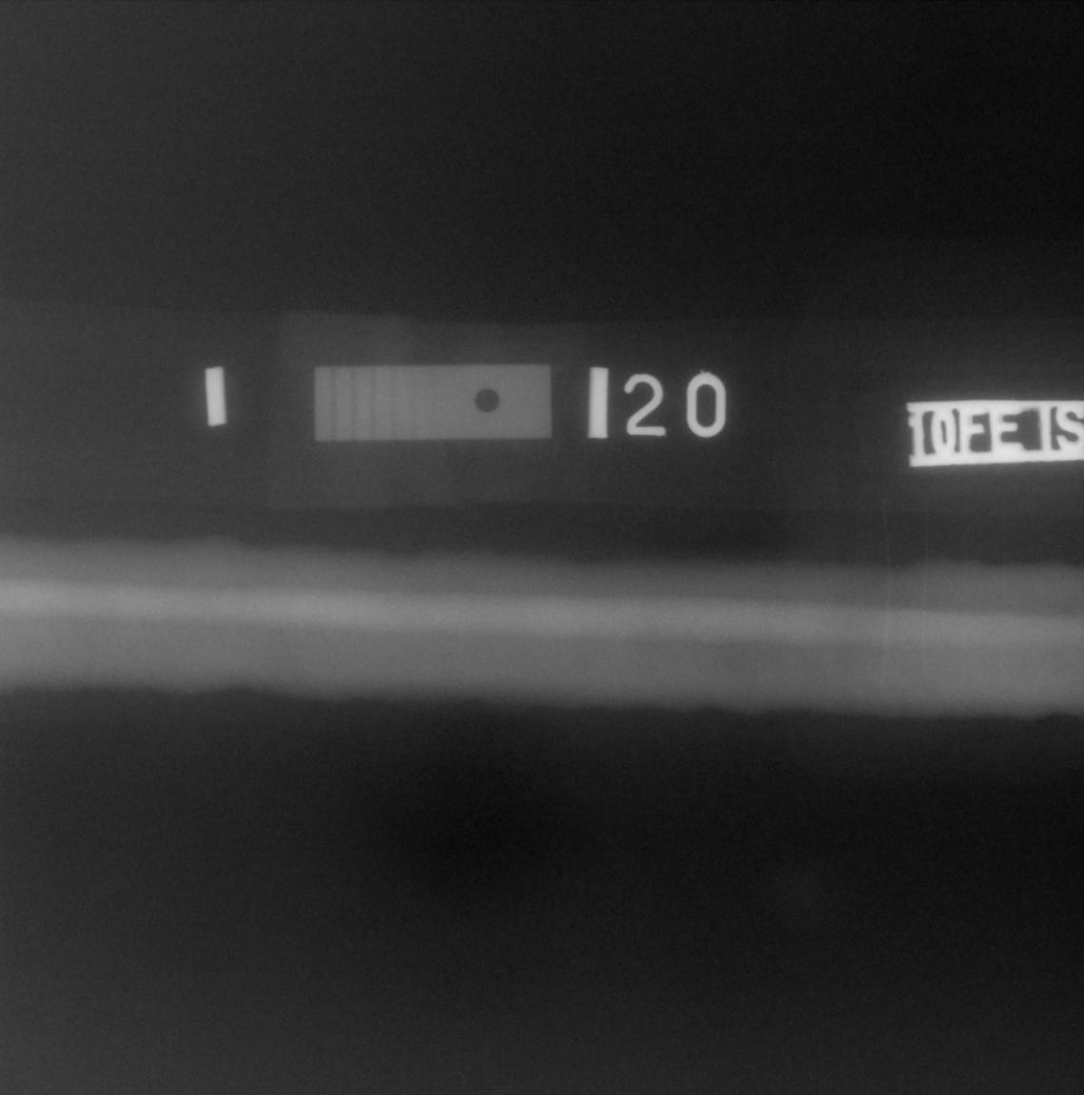Reference Standard 1: (314, 364, 551, 441)
